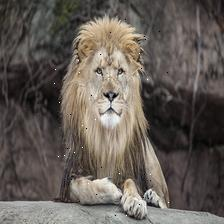Lion: (52, 17, 170, 224)
